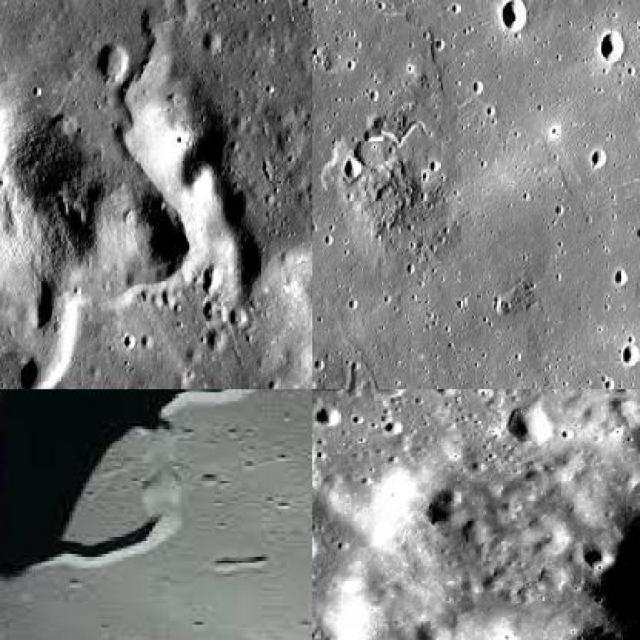rille: (0, 390, 311, 638), (312, 0, 638, 209), (312, 443, 498, 639), (106, 0, 159, 194)
